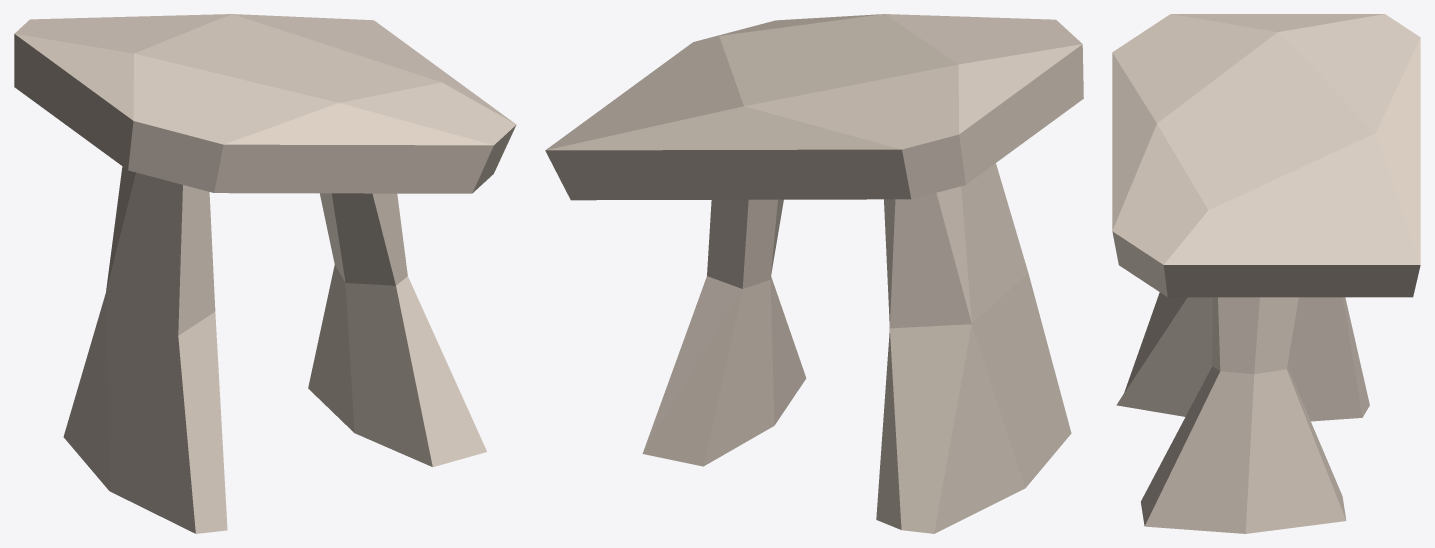
File: dolmen_04.obj
3 views of the same model, side by side, from view 1: azimuth 30°, elevation 25°; view 2: azimuth 150°, elevation 25°; view 3: azimuth 270°, elevation 25° (orthographic). The views are drawn at different scales.
Visible parts, largest first — view 1: Dolmen_04_Dolmen_05; view 2: Dolmen_04_Dolmen_05; view 3: Dolmen_04_Dolmen_05.
Part boxes in pixels (box(x1,y1,x2,y2)): Dolmen_04_Dolmen_05: box(14, 14, 516, 533); Dolmen_04_Dolmen_05: box(545, 14, 1083, 533); Dolmen_04_Dolmen_05: box(1112, 14, 1420, 533).
Size of the model in its own units: 18.59 by 19.15 by 14.4.
